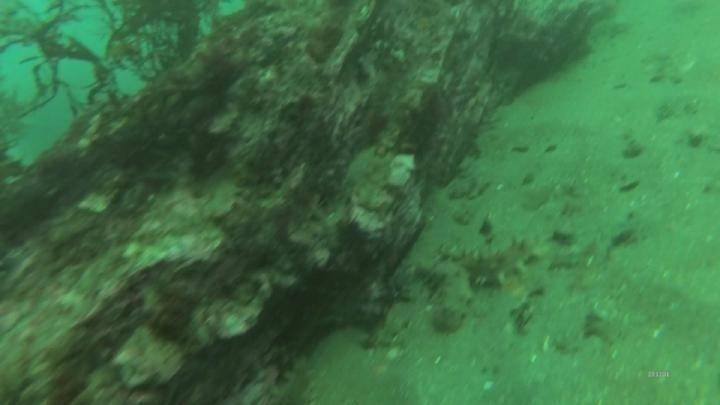holothurian: (428, 232, 551, 293), (411, 253, 477, 335)
